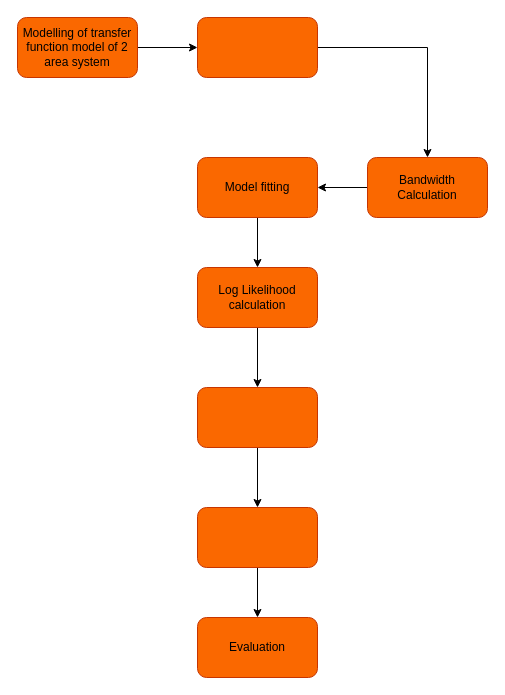
The diagram is 505 pixels wide and 695 high, and some of its shapes have lost their labels. Each missing label, with the centre of its shape:
Anomaly detection: (257,537)
Data preparation: (257,47)
Threshold calculation: (257,417)
